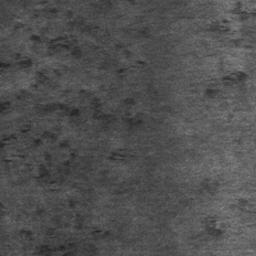Rolled in scale: (0, 0, 162, 256), (218, 0, 256, 50), (207, 61, 247, 101), (102, 149, 135, 175), (197, 216, 225, 240), (112, 181, 139, 199), (199, 178, 224, 196), (230, 199, 251, 212), (0, 202, 5, 218)
